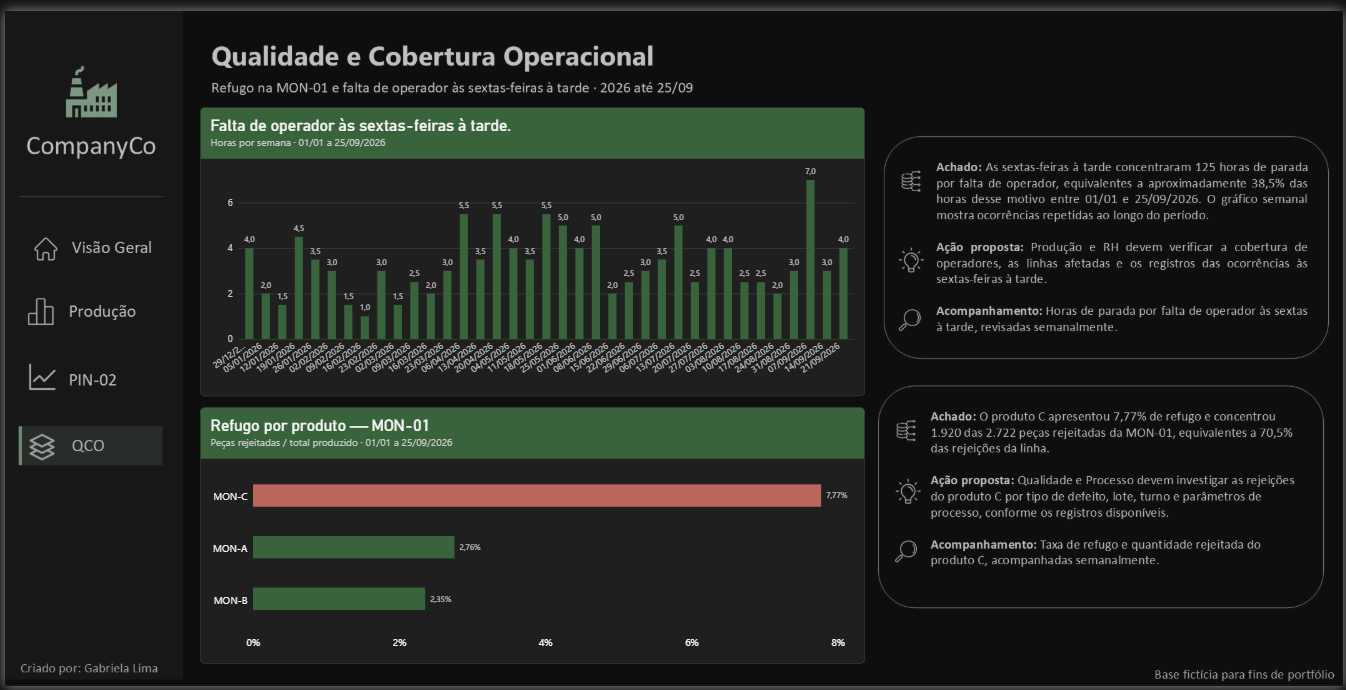

The dashboard page shown, as its layout file describes it:
{"tool":"powerbi","page":{"name":"QCO","canvas":[2140,1080],"ordinal":4},"visuals":[{"type":"columnChart","title":"Falta de operador às sextas-feiras à tarde.","fields":{"Category":["Calendario.Semana_Inicio"],"Y":["Paradas.Horas Paradas Não Planejadas"]},"box":[312,154,1064,462],"z":4000},{"type":"clusteredBarChart","title":"Refugo por produto — MON-01","fields":{"Category":["Producao.Produto"],"Y":["Calendario.% Refugo"]},"box":[312,634,1064,410],"z":4001},{"type":"actionButton","box":[0,645,282,104],"z":4002},{"type":"actionButton","box":[0,332,282,104],"z":4003},{"type":"actionButton","box":[0,436,282,104],"z":4004},{"type":"actionButton","box":[0,540,282,104],"z":4005}]}

Visuals, with their boxes on the page's 2140x1080 design canvas (x1, y1, x2, y2). These are canvas units, not pixel positions in the 1346x690 screenshot, which may show the page scaled, cropped or inside an application window:
"Falta de operador às sextas-feiras à tarde." columnChart: [312,154,1376,616]
"Refugo por produto — MON-01" clusteredBarChart: [312,634,1376,1044]
actionButton: [0,645,282,749]
actionButton: [0,332,282,436]
actionButton: [0,436,282,540]
actionButton: [0,540,282,644]
